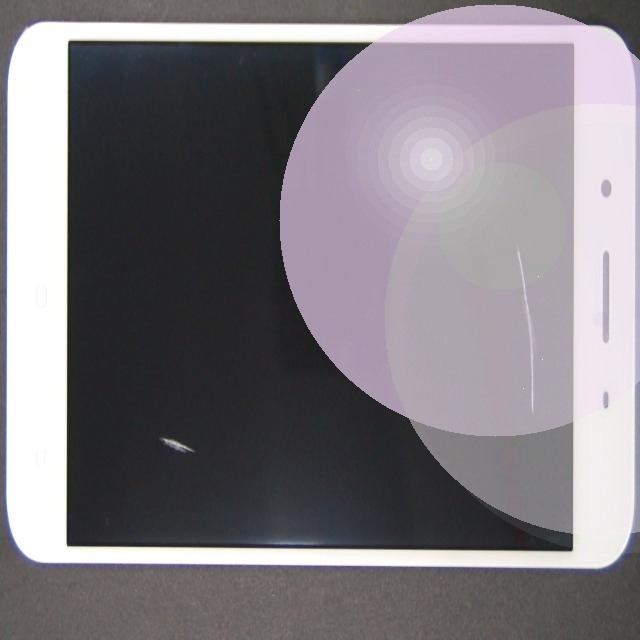scratch: (280, 148, 640, 377)
